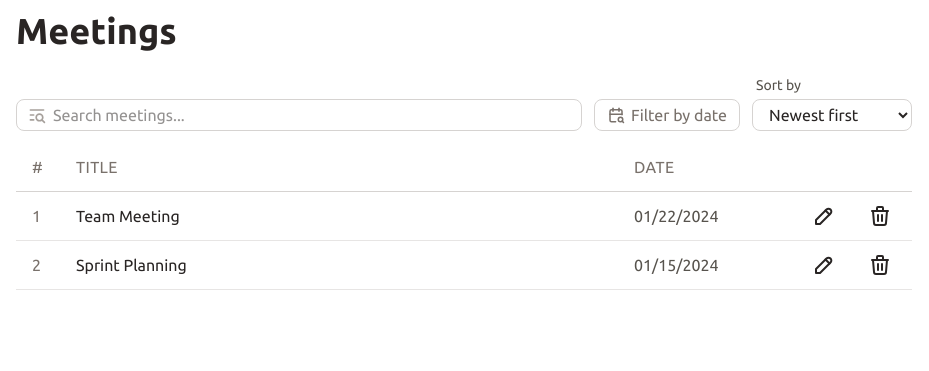
Test: MeetingList – date filter toggle › badge (•) appears when a date filter is active and disappears after clearing
The width and height of the screenshot is (929, 371).
Click the button "Filter by date" at (667, 115), box [594, 99, 740, 131]
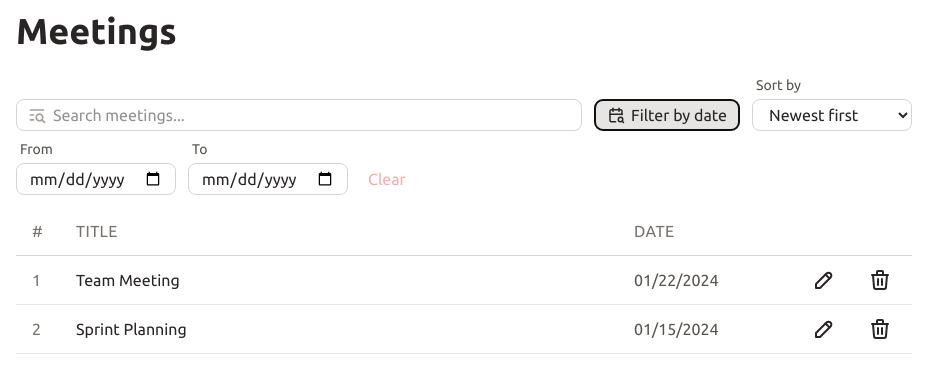
Expected: the text "•" is not shown
Type "2024-01-20" into the date field labelled "From" at (96, 179), box [16, 163, 176, 195]
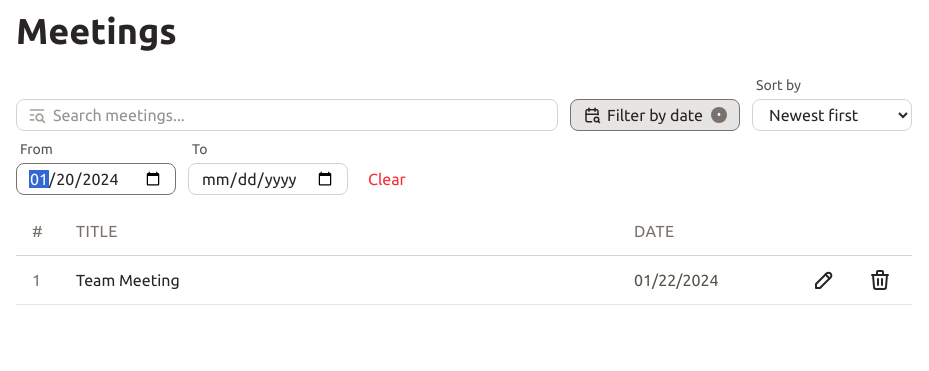
Expected: the text "•" is shown, [711, 107, 727, 123]
Click the button "Clear" at (387, 179), box [360, 163, 414, 195]
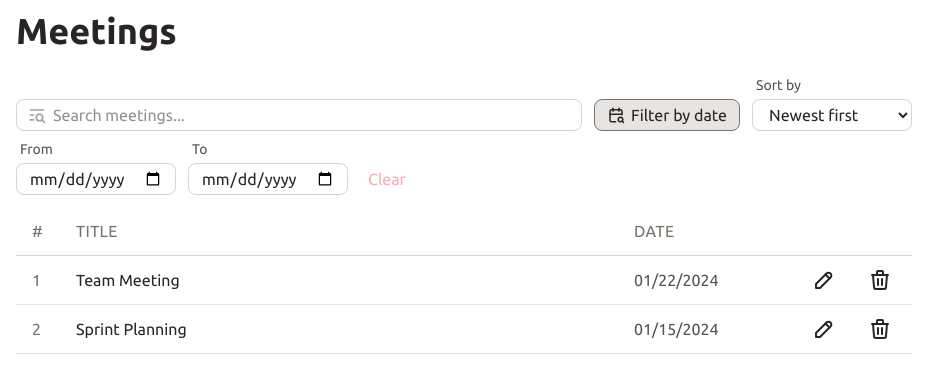
Expected: the text "•" is gone
